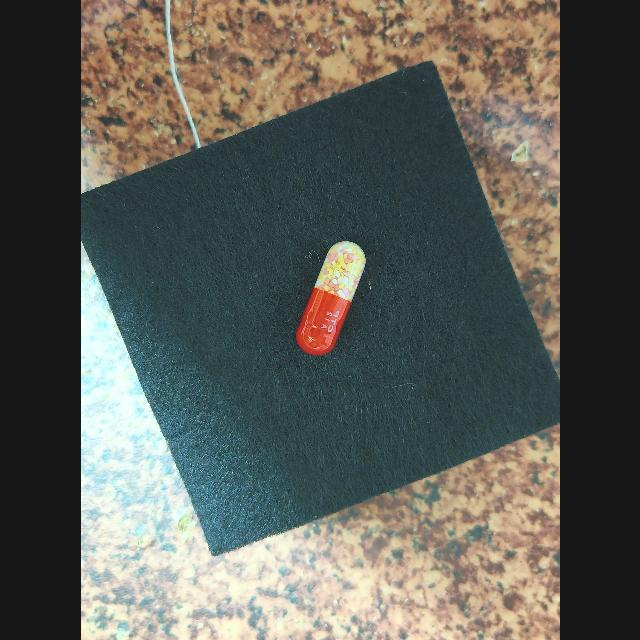Intact Capsule: (295, 241, 365, 355)
